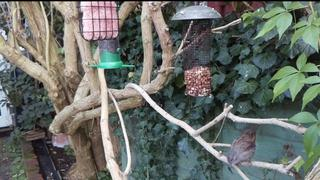dunnock: (226, 124, 262, 168)
